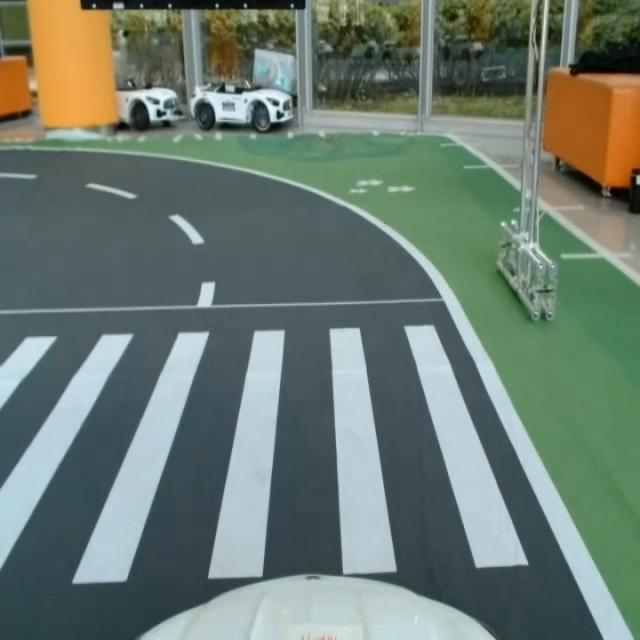traffic-light: (81, 0, 312, 13)
